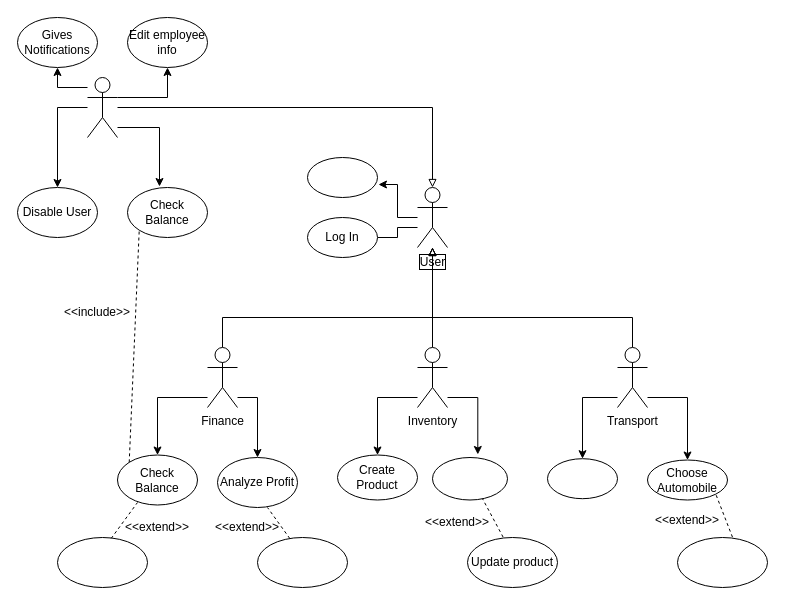
Some shapes in this 785 by 605 pixel diagram are drawn without their labels. The centre of each missing label's shape, as x and y in pixels:
Create Reports: the point at 302,562
Create sell reports: the point at 470,478
Engine Info: the point at 722,562
Manager: the point at 102,107
Receive notifications: the point at 582,478
Sign Up: the point at 342,177
Update Balance: the point at 102,562
